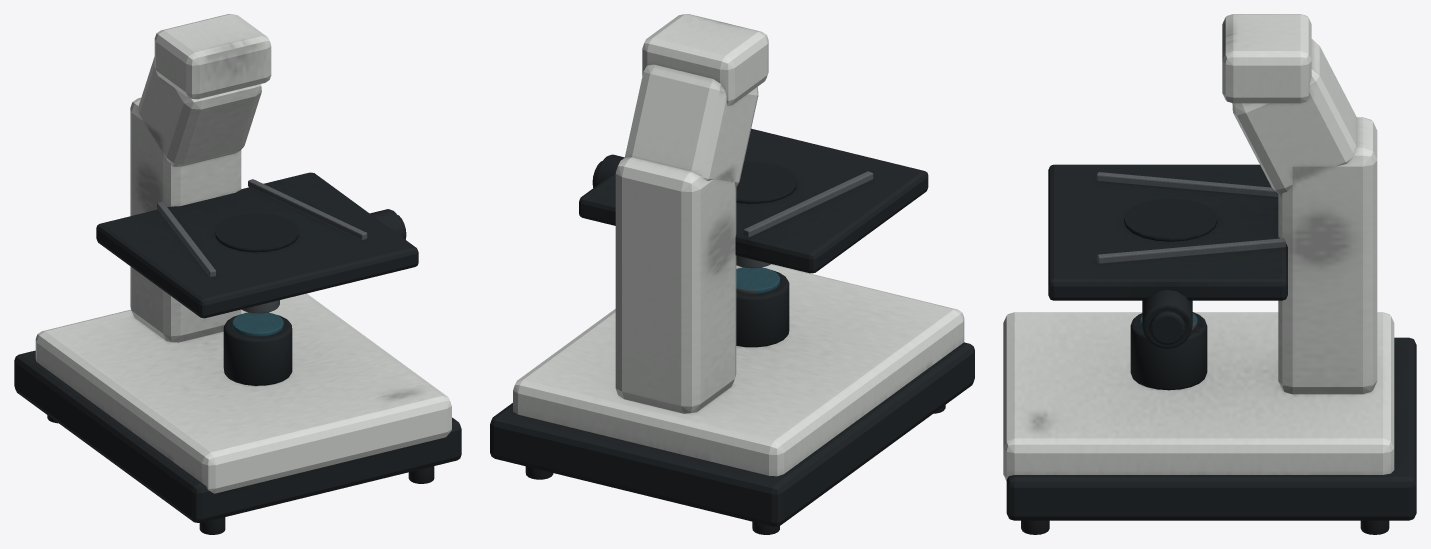
The picture shows the model from 3 angles, left to right: view 1: azimuth 30°, elevation 25°; view 2: azimuth 150°, elevation 25°; view 3: azimuth 270°, elevation 25°; orthographic projection. The views are drawn at different scales.
Size of the model in its own units: 1.11 by 1.52 by 1.29.
Materials: 1 (1 with a texture image).
